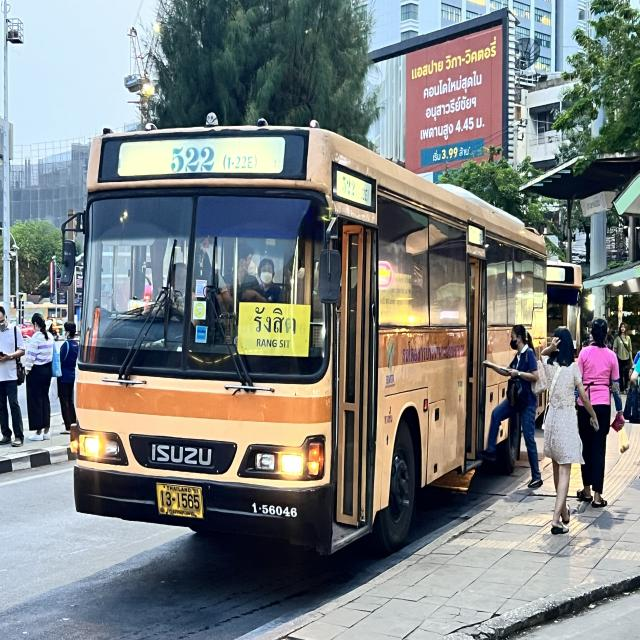BMTA-bus: (60, 95, 555, 571)
Bus-Line-Number: (164, 135, 260, 177)
Destination-Sign-Normal-Expressway: (237, 303, 310, 356)
